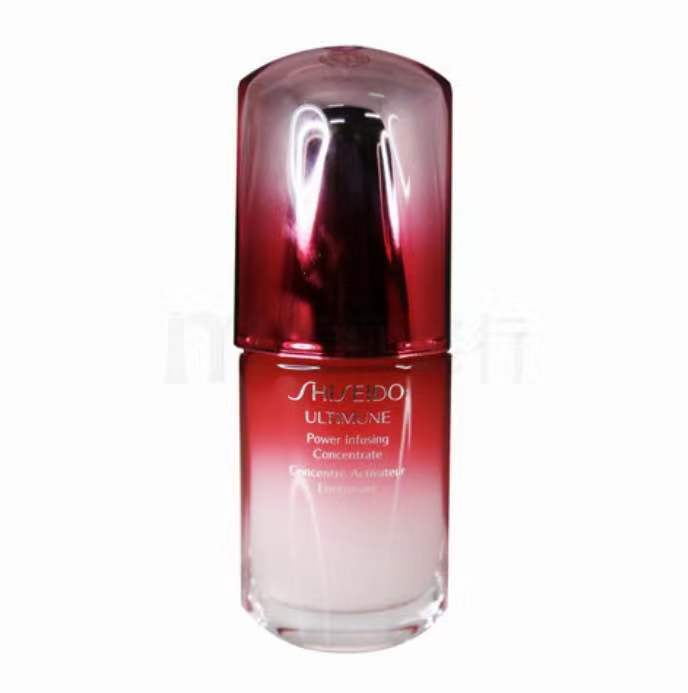cosmetic: (232, 41, 457, 647)
